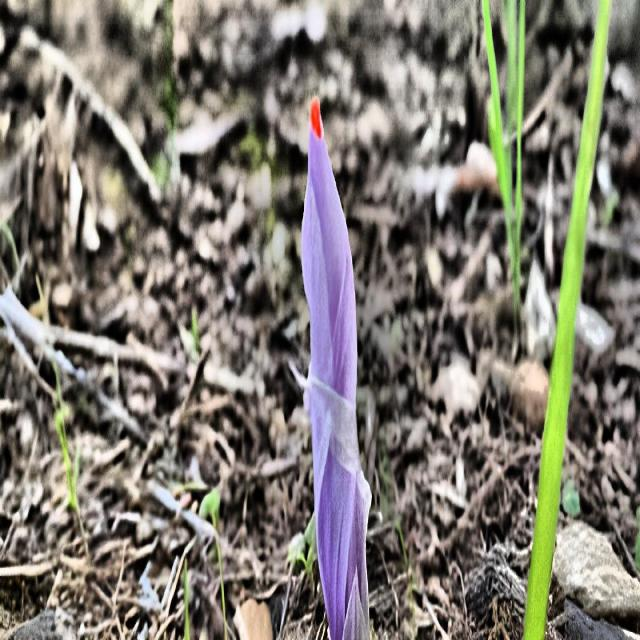Flower: (298, 93, 374, 640)
stigma: (301, 92, 329, 142)
